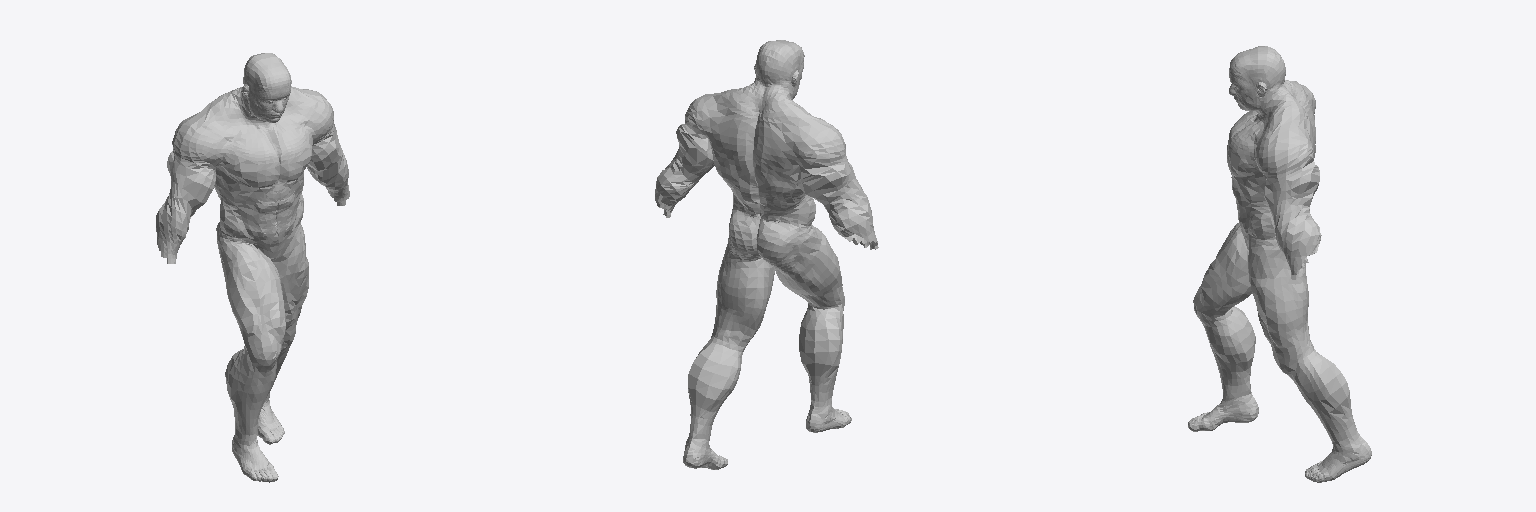
Rendered from rook.obj.
The picture shows the model from 3 angles: view 1: azimuth 30°, elevation 25°; view 2: azimuth 150°, elevation 25°; view 3: azimuth 270°, elevation 25°; orthographic projection.
Parts seen in each view (by area): view 1: rook_body-male_muscle_13290.001; view 2: rook_body-male_muscle_13290.001; view 3: rook_body-male_muscle_13290.001.
Boxes of the visible parts, box(x1,y1,x2,y2) form: rook_body-male_muscle_13290.001: box(156, 53, 349, 482); rook_body-male_muscle_13290.001: box(655, 40, 878, 469); rook_body-male_muscle_13290.001: box(1188, 46, 1371, 482).
Bounding box in the file's own units: 2.08 × 4 × 1.62.